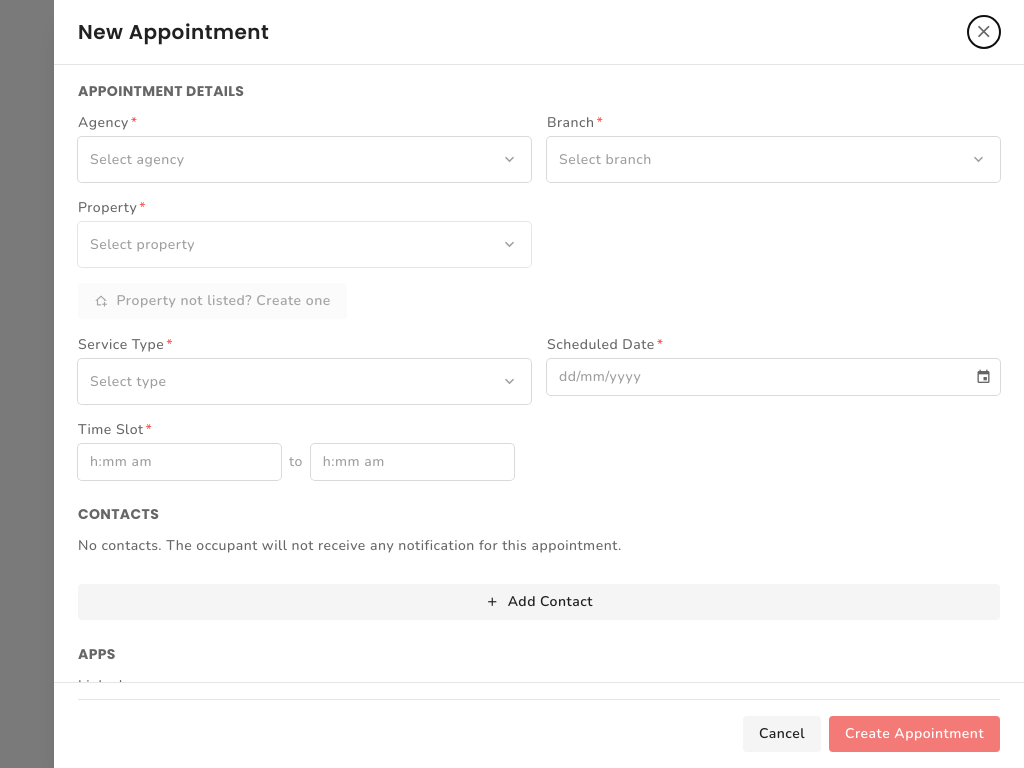
Test: AppointmentFormDrawer › shows validation errors and prevents save when validation fails
Click the button "Create Appointment" at [914, 734], box [829,716,1000,752]
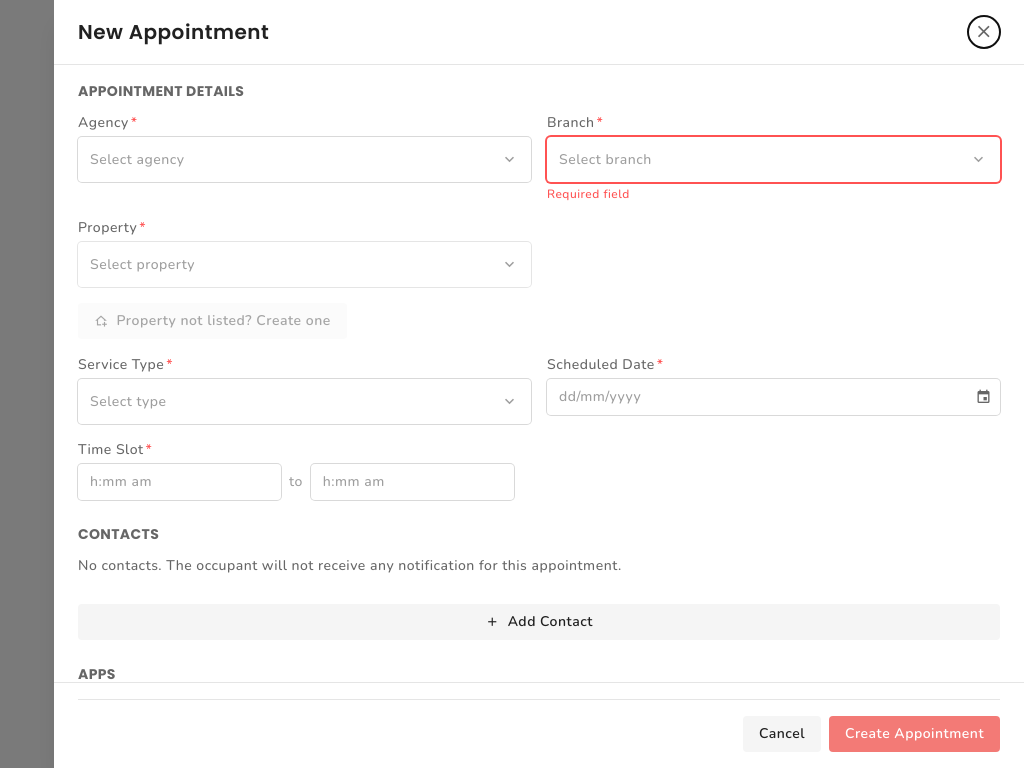
expect the text "Required field" is shown: met, box [547,186,630,202]
